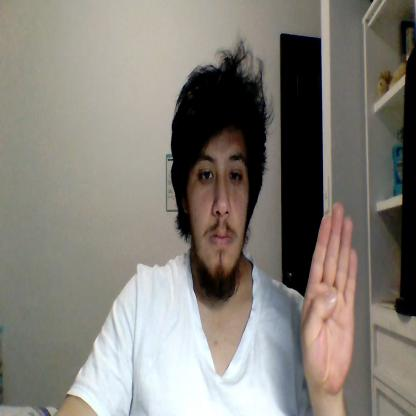B: (300, 202, 356, 392)
